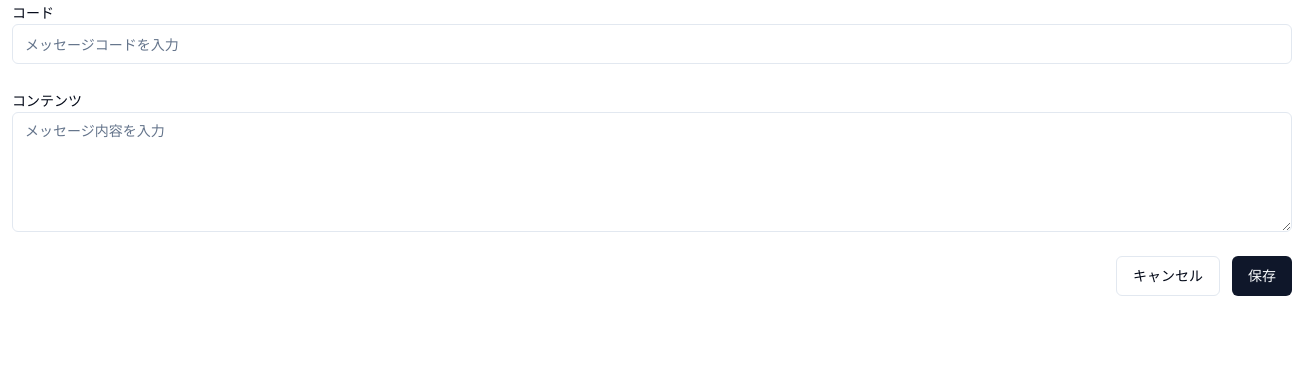
Test: MessageForm › バリデーション › codeが空の場合、エラーメッセージを表示する
What coordinates should you click on to do the following:
click the button with test id "message-form-submit"
I would click on:
 (1262, 276)
Its box is [1232,256,1292,296].
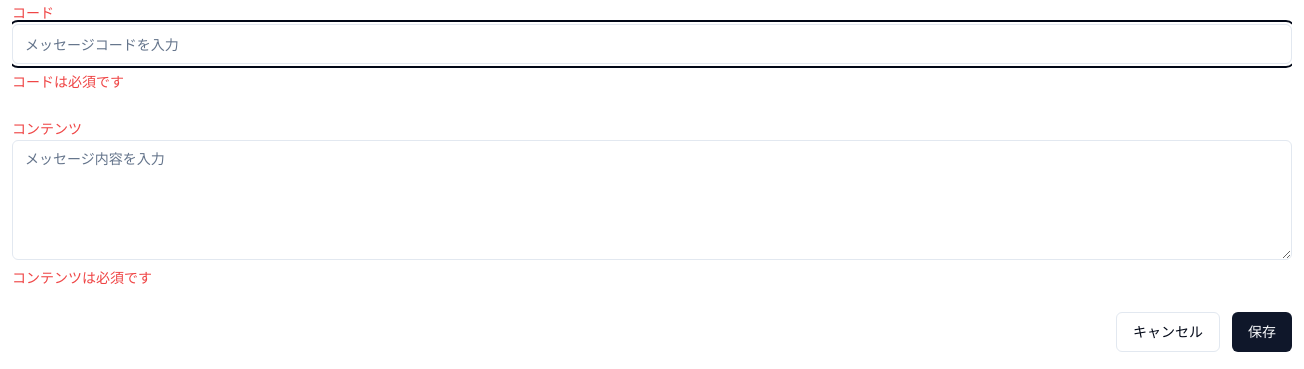
Result: the text "コードは必須です" is shown at [12,73,124,90]
